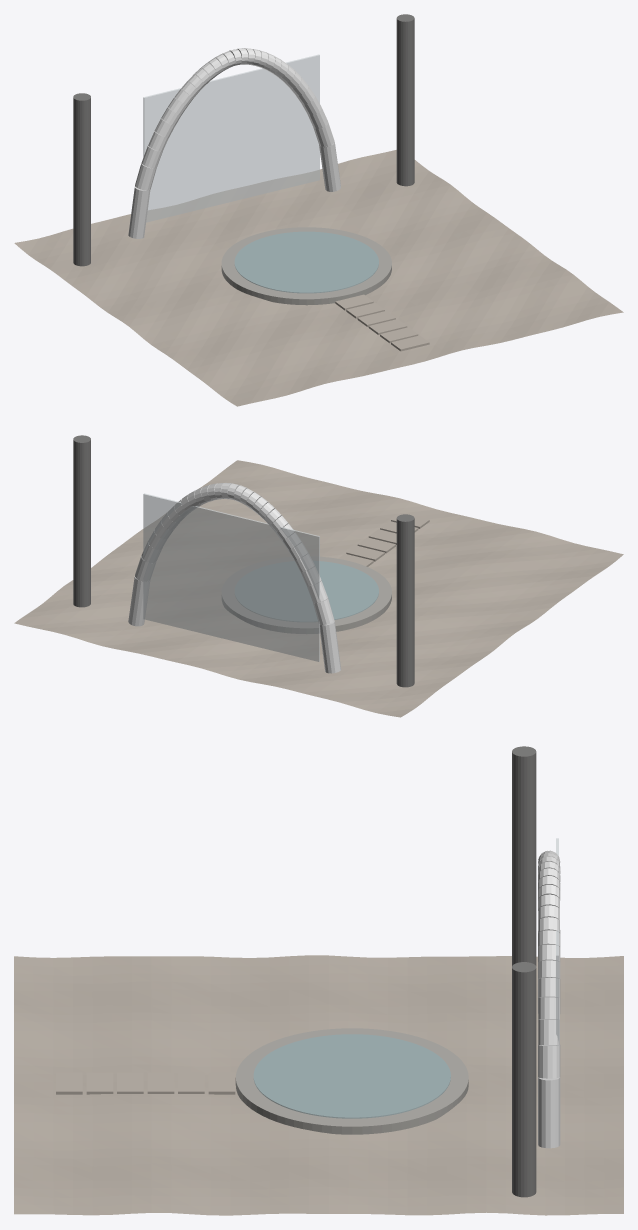
Rendered from mirror-chamber-real-v1.glb.
3 renders of one model, top to bottom at view 1: azimuth 30°, elevation 25°; view 2: azimuth 150°, elevation 25°; view 3: azimuth 270°, elevation 25°, orthographic. The views are drawn at different scales.
Visible parts, largest first — view 1: mirror-stone-floor, mirror-primary-surface, mirror-basin-rim, mirror-basin-water, mirror-primary-frame, mirror-column-4.6, mirror-column--4.6; view 2: mirror-stone-floor, mirror-primary-surface, mirror-basin-rim, mirror-primary-frame, mirror-basin-water, mirror-column--4.6, mirror-column-4.6; view 3: mirror-stone-floor, mirror-basin-rim, mirror-basin-water, mirror-primary-frame, mirror-column-4.6, mirror-column--4.6, mirror-path-5.
Part boxes in pixels (x1,y1,x2,y2): mirror-stone-floor: [14, 150, 623, 406]; mirror-primary-surface: [143, 54, 319, 222]; mirror-basin-rim: [221, 227, 391, 305]; mirror-basin-water: [234, 231, 378, 293]; mirror-primary-frame: [128, 48, 340, 238]; mirror-column-4.6: [396, 14, 414, 186]; mirror-column--4.6: [73, 93, 90, 266]; mirror-stone-floor: [14, 460, 623, 717]; mirror-primary-surface: [143, 493, 319, 661]; mirror-basin-rim: [222, 556, 391, 633]; mirror-primary-frame: [128, 483, 341, 673]; mirror-basin-water: [235, 561, 378, 621]; mirror-column--4.6: [396, 514, 414, 687]; mirror-column-4.6: [73, 435, 90, 607]; mirror-stone-floor: [14, 955, 623, 1215]; mirror-basin-rim: [235, 1028, 468, 1134]; mirror-basin-water: [253, 1034, 450, 1118]; mirror-primary-frame: [538, 850, 560, 1148]; mirror-column-4.6: [512, 962, 536, 1197]; mirror-column--4.6: [512, 746, 536, 966]; mirror-path-5: [208, 1072, 235, 1094].
Size of the model in its own units: 11 by 4.57 by 11.
